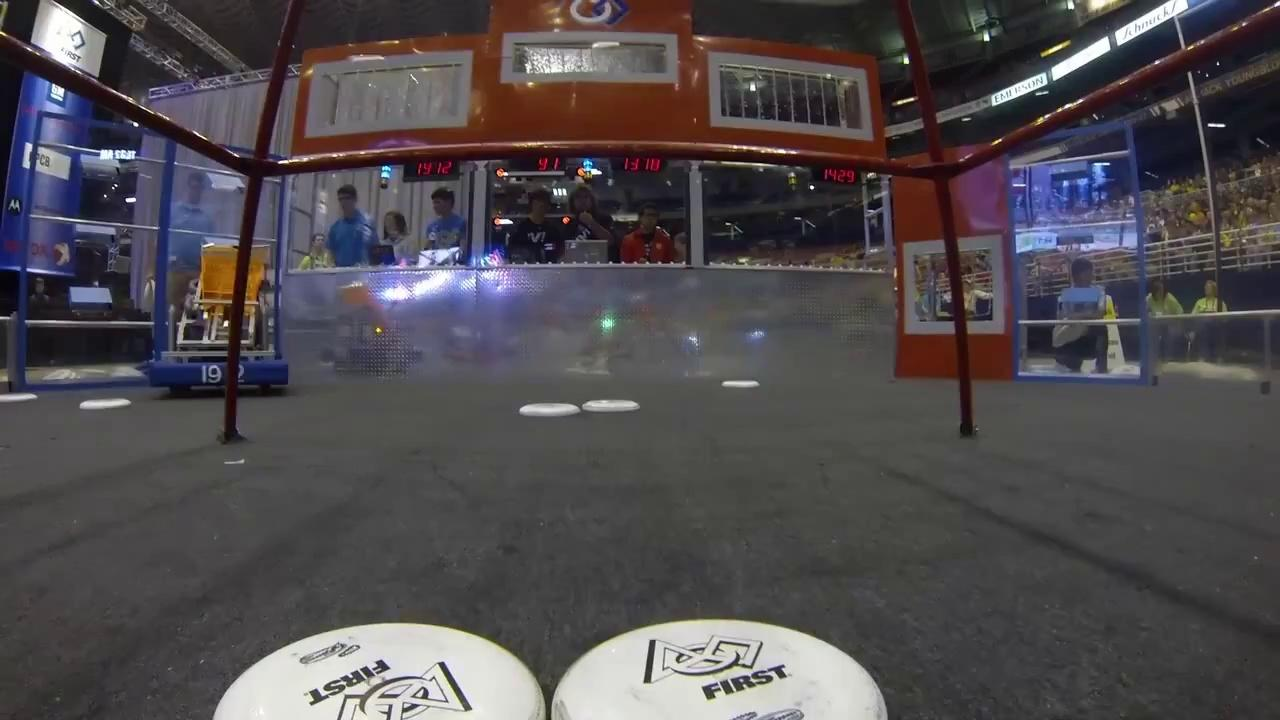robot: (150, 239, 293, 391)
